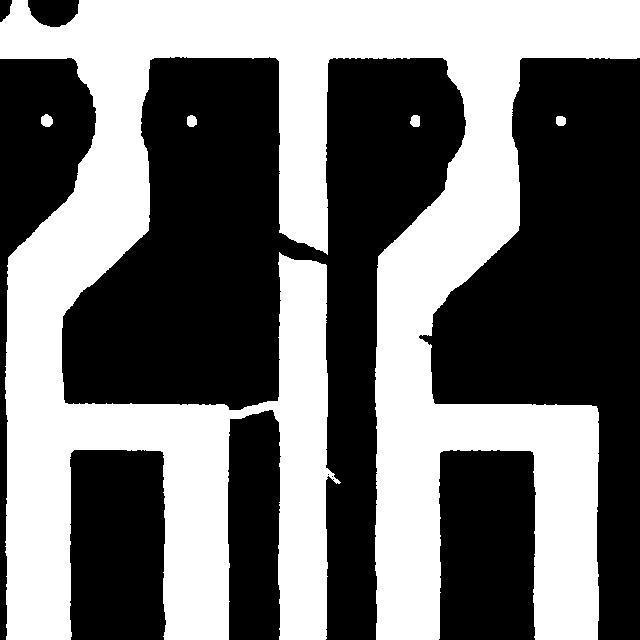mousebite: (307, 456, 350, 493)
open: (211, 391, 293, 431)
short: (260, 223, 341, 274)
spur: (409, 325, 447, 356)
